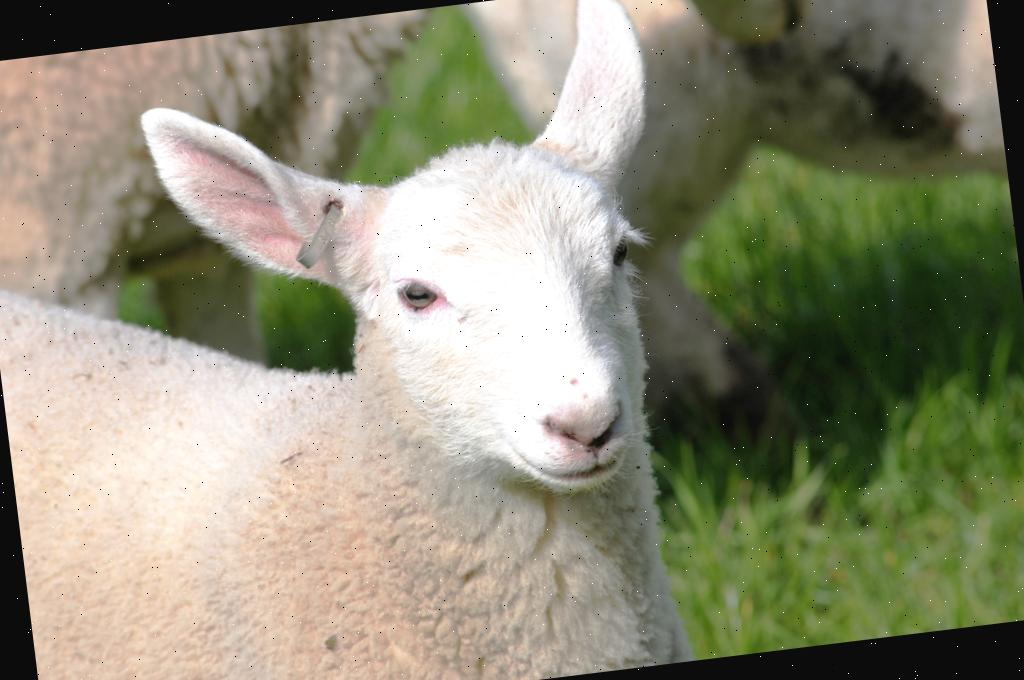Sheep: (0, 0, 719, 680), (435, 0, 1024, 490), (0, 5, 492, 427)
